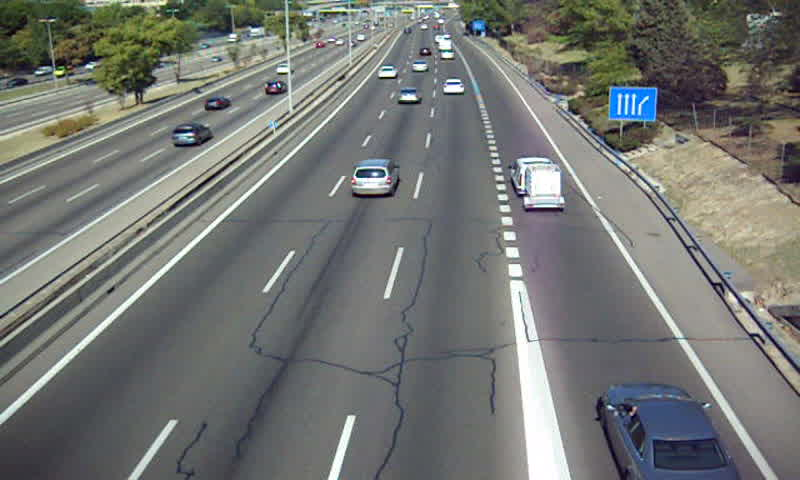car: (599, 384, 737, 480), (350, 158, 398, 197), (396, 87, 423, 105), (443, 79, 465, 96), (378, 64, 397, 80), (411, 59, 430, 74), (441, 50, 456, 60)
van: (512, 158, 555, 199)
